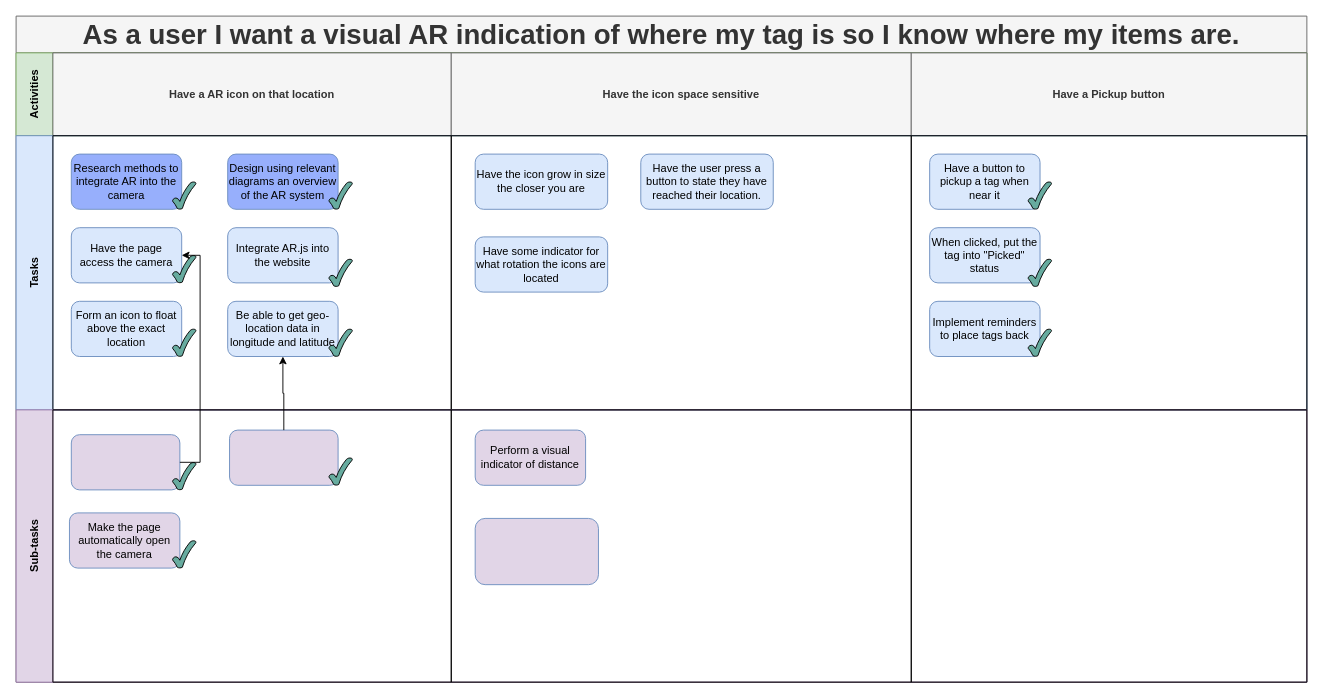
Image size: 1323x698. Some labels were removed from this diagram. Each missing label, with the centre of its shape:
"Congratulate via visual effects when approaching from a set distance" goes at point (536, 551).
"Have a page for viewing the tags in AR" goes at point (125, 462).
"Research GeoLocation API" goes at point (283, 457).
